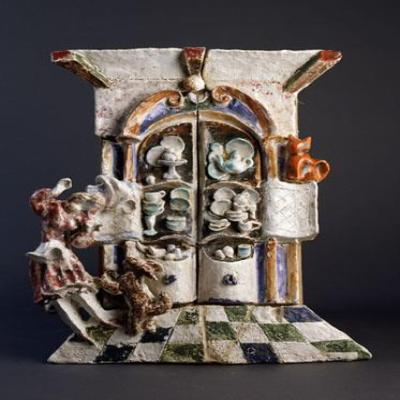sculpture: (25, 47, 372, 366)
